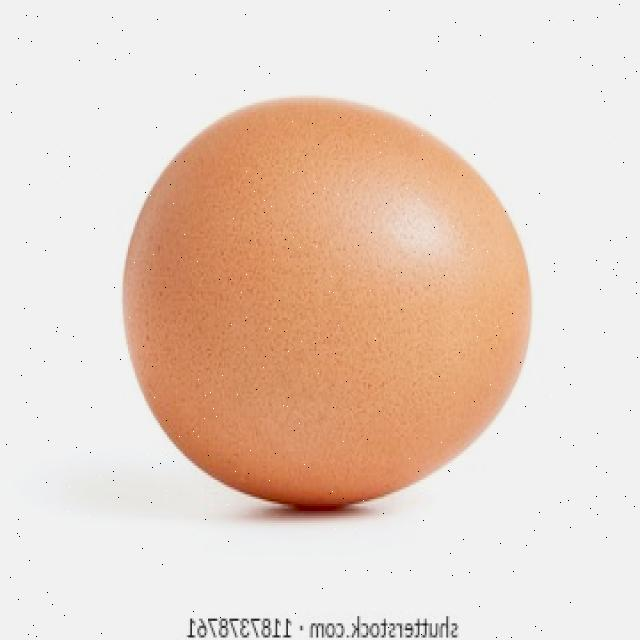Brown Egg: (119, 98, 535, 514)
